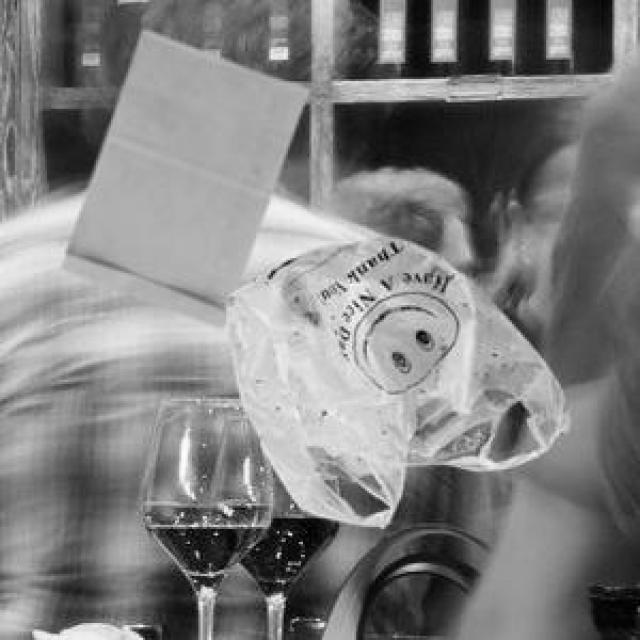paper: (58, 28, 303, 322)
